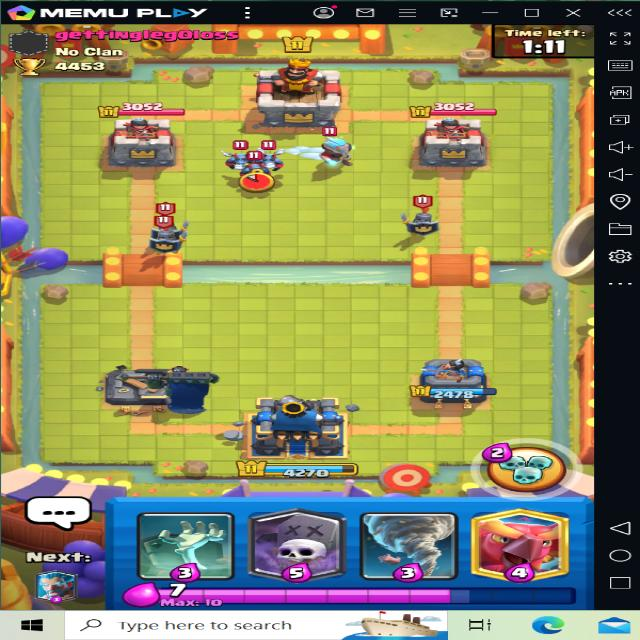guards: (401, 195, 452, 236), (148, 203, 188, 236), (145, 220, 183, 251)
ice-wizard: (306, 126, 364, 166)
minion: (256, 134, 293, 173), (215, 142, 245, 173), (237, 156, 274, 180)
